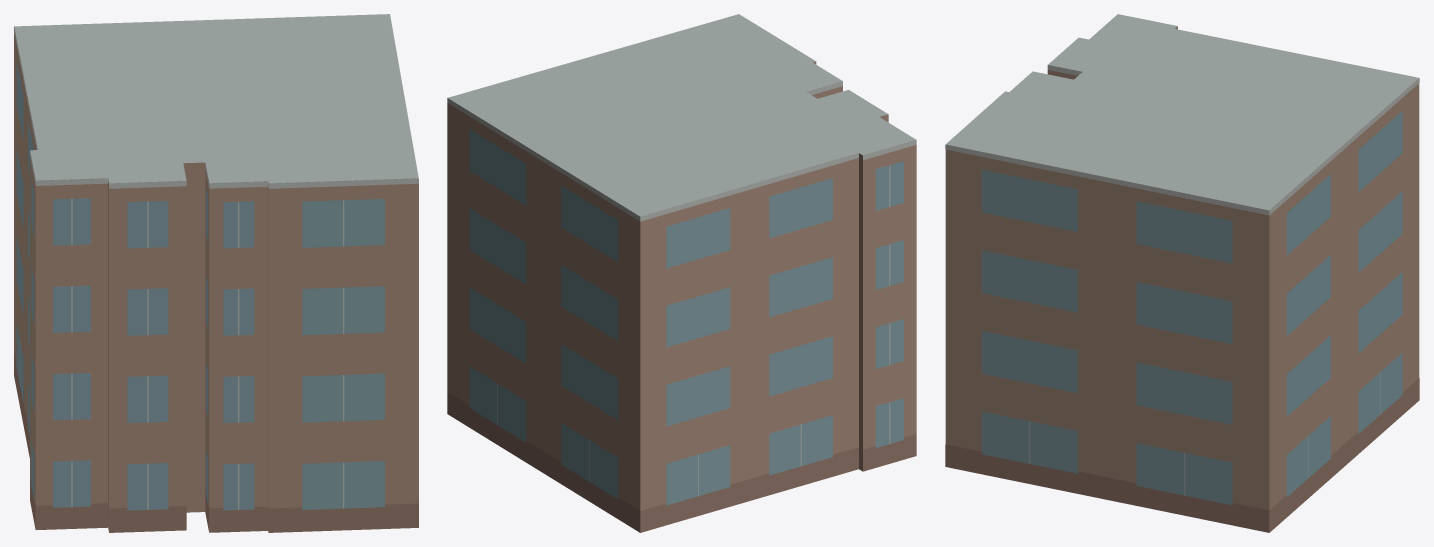
The model's file is survey-upis-32487297.glb.
3 renders of one model, left to right at view 1: azimuth 30°, elevation 25°; view 2: azimuth 150°, elevation 25°; view 3: azimuth 270°, elevation 25°, orthographic. The views are drawn at different scales.
Parts seen in each view (by area): view 1: survey-upis-32487297.tmp; view 2: survey-upis-32487297.tmp; view 3: survey-upis-32487297.tmp.
Part boxes in pixels (bbox=[...]): survey-upis-32487297.tmp: bbox=[14, 14, 418, 532]; survey-upis-32487297.tmp: bbox=[447, 14, 916, 532]; survey-upis-32487297.tmp: bbox=[945, 14, 1419, 532].
Size of the model in its own units: 20.48 by 15.67 by 20.88.
